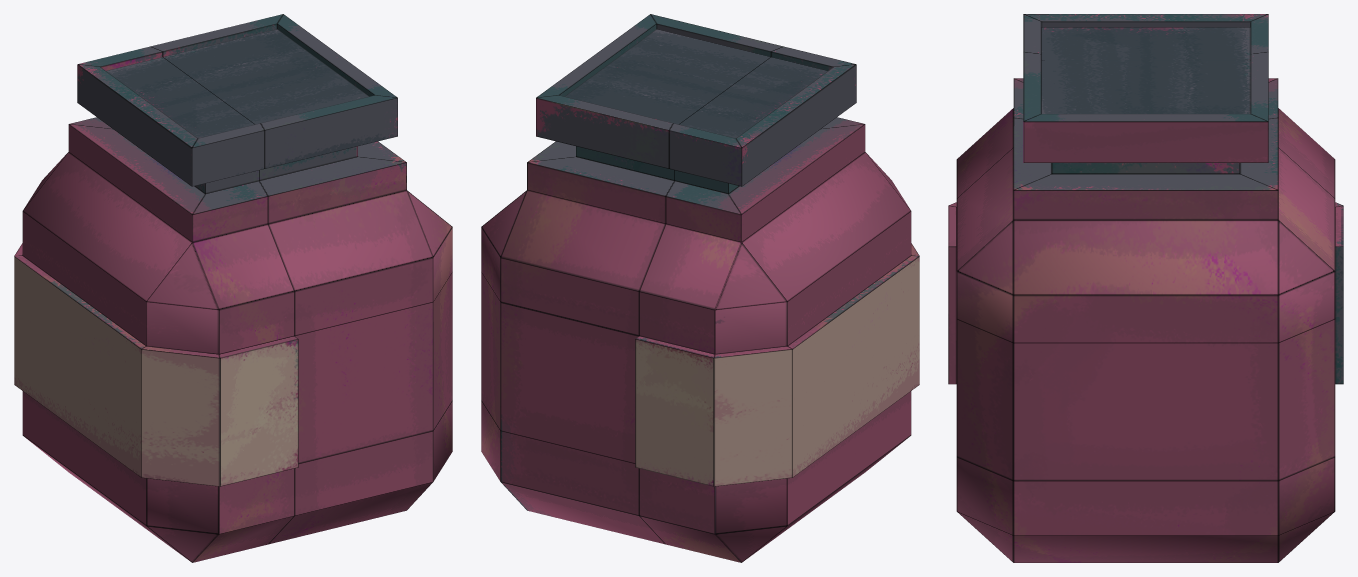
Rendered from Hazeret_UV.fbx.
3 renders of one model, left to right at view 1: azimuth 30°, elevation 25°; view 2: azimuth 150°, elevation 25°; view 3: azimuth 270°, elevation 25°, orthographic. The views are drawn at different scales.
Parts seen in each view (by area): view 1: hazeret; view 2: hazeret; view 3: hazeret.
Boxes of the visible parts, <box> form: hazeret: <box>14,14,452,562</box>; hazeret: <box>481,14,919,562</box>; hazeret: <box>948,14,1343,562</box>.
Bounding box in the file's own units: 20.45 × 25.61 × 20.89.
